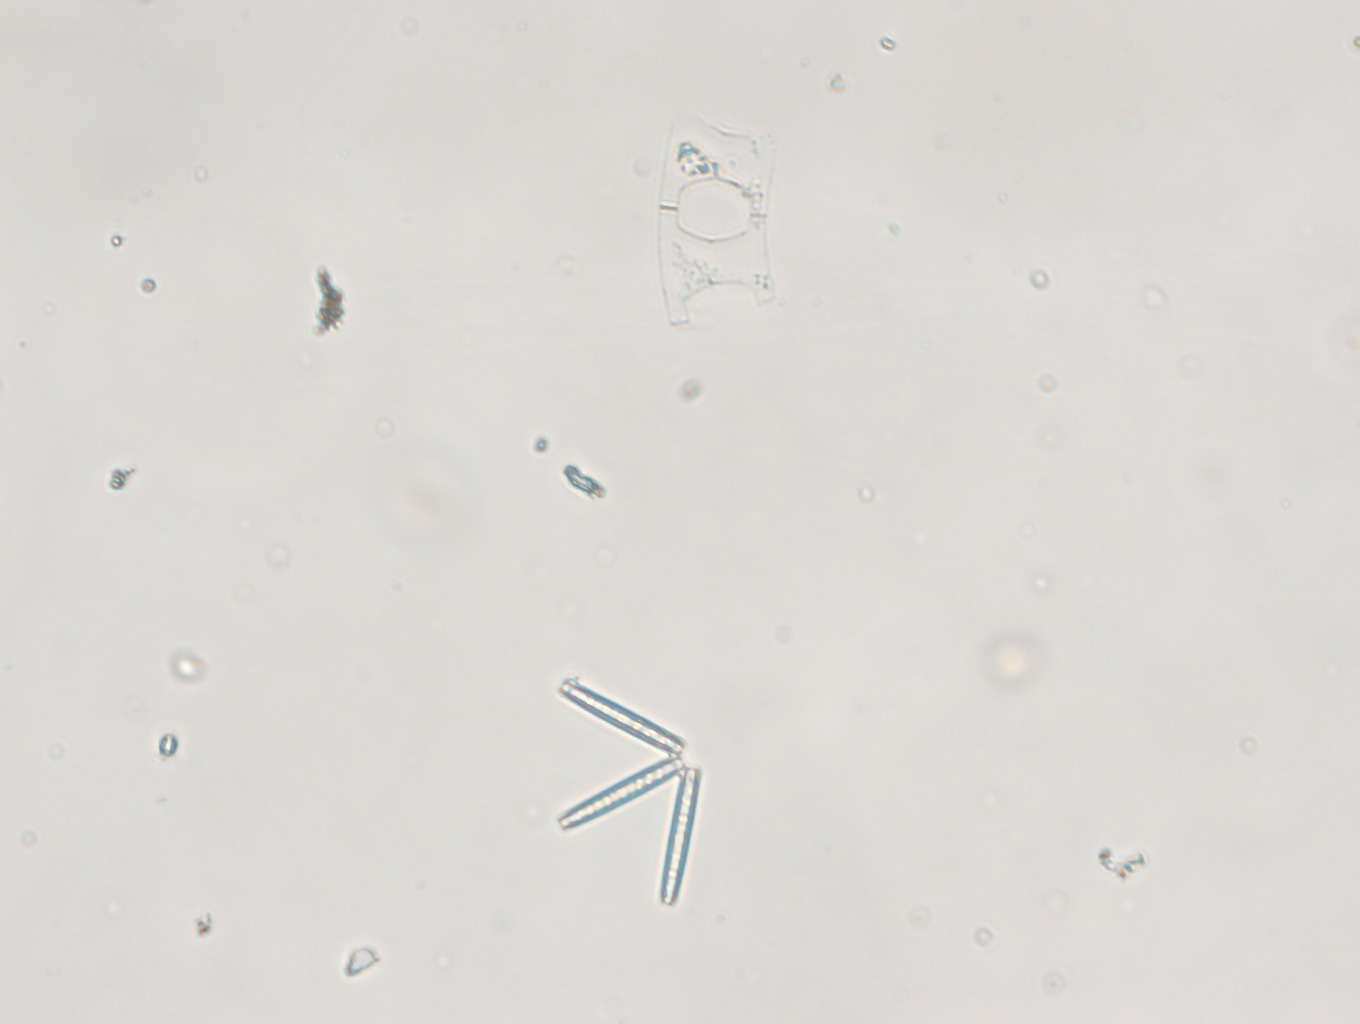eucampia: (649, 105, 793, 321)
thalassionema nitzschioides: (542, 666, 712, 905)
